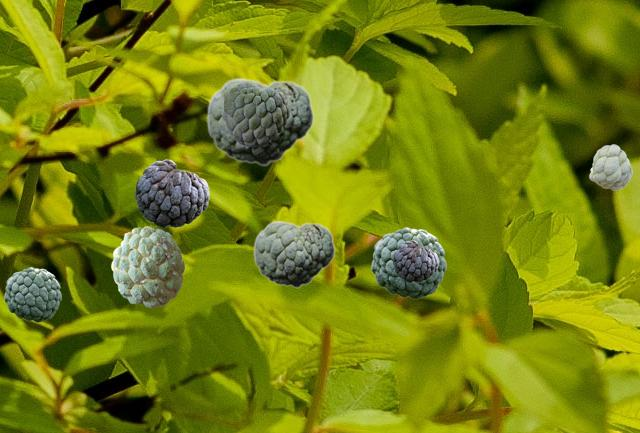atis: (206, 77, 313, 165), (111, 226, 183, 306), (253, 220, 334, 287), (371, 227, 445, 298), (135, 159, 208, 226), (223, 83, 288, 145), (4, 267, 60, 321), (589, 144, 631, 189), (393, 240, 437, 281)
